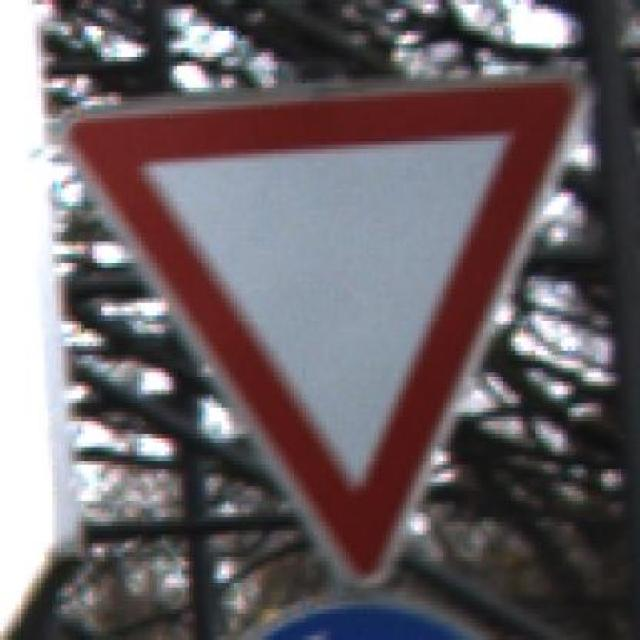Give Way: (70, 70, 635, 596)
